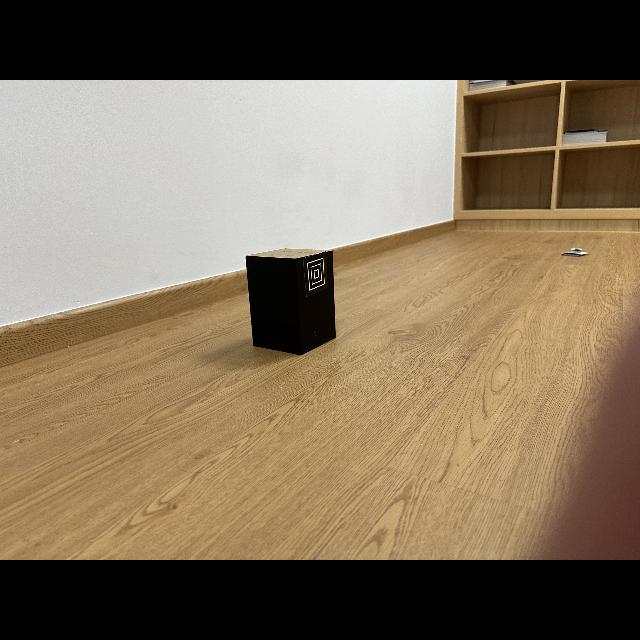BULLSEYE: (303, 251, 328, 297)
